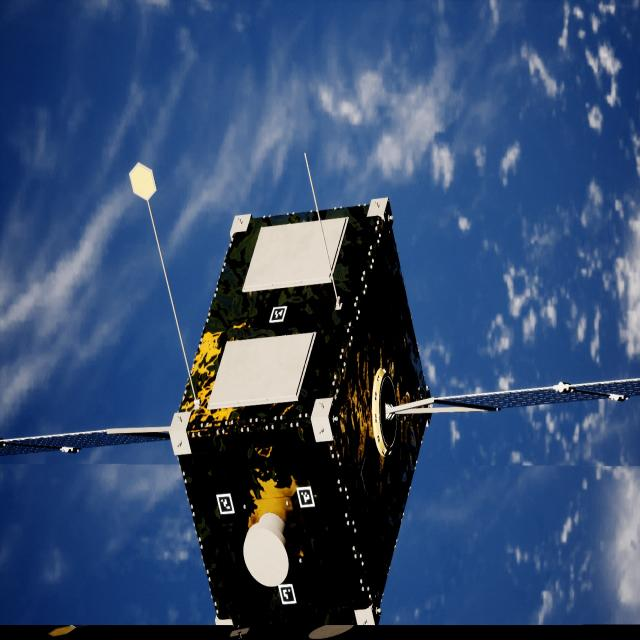satellite: (0, 199, 640, 640)
